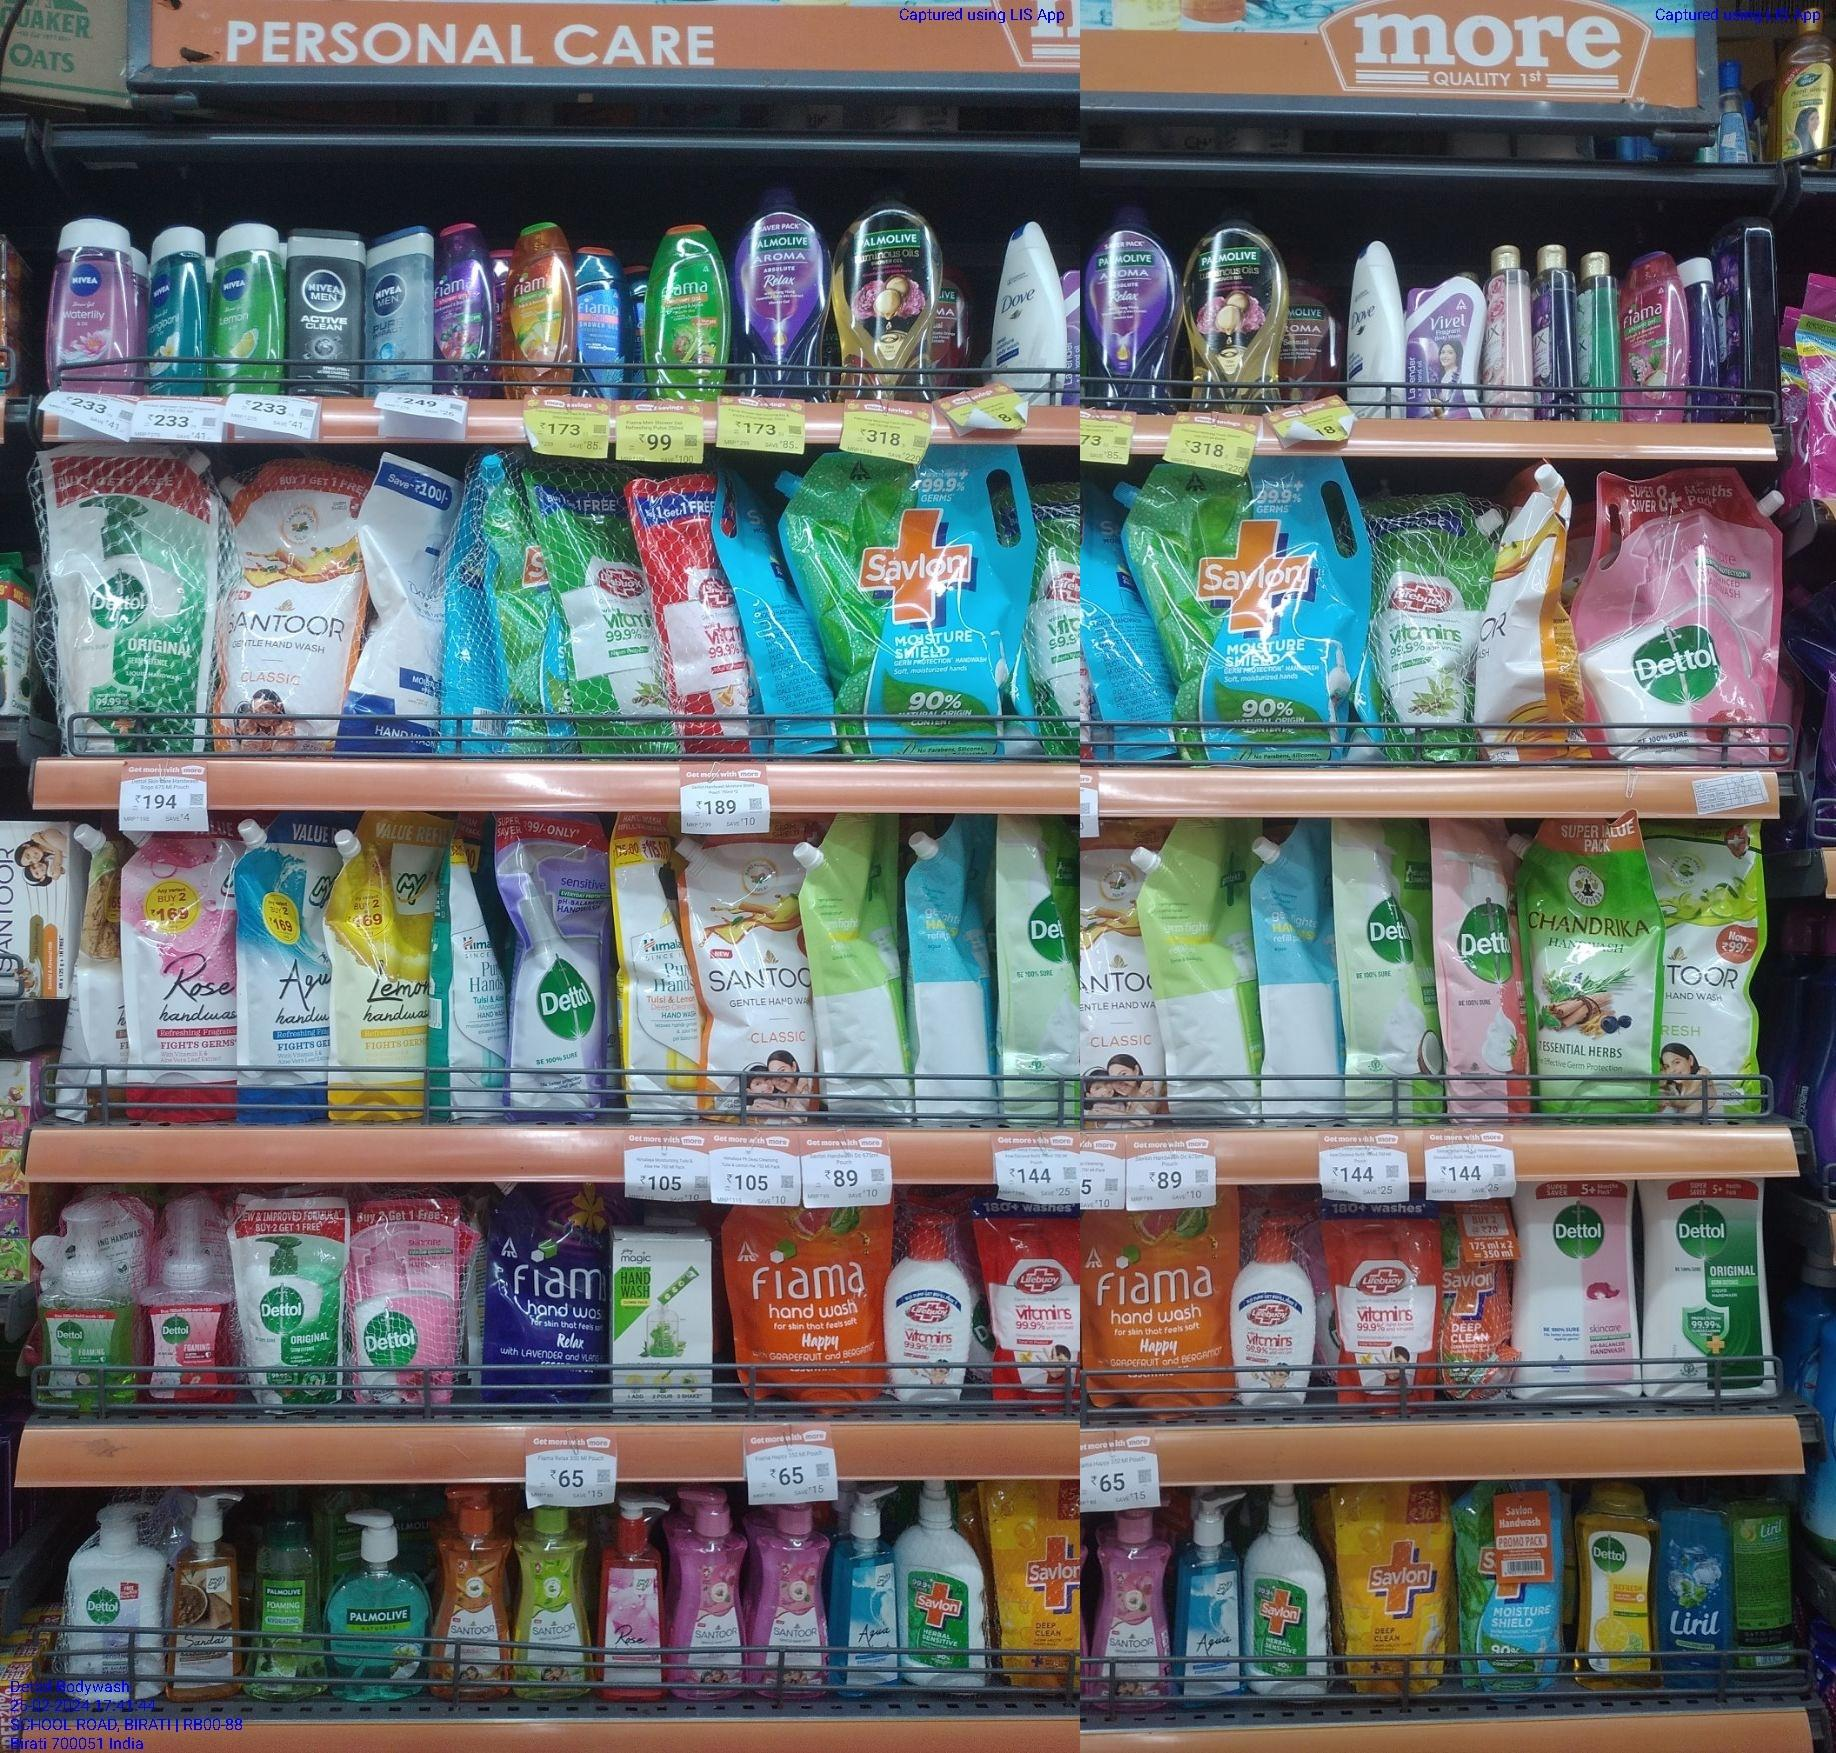Dettol_Bodywash_Refresh: (1580, 1486, 1662, 1697)
Fiama_Shower_Gel_Lemongrass_and_Jojoba_250ML: (649, 223, 729, 397)
Fiama_Shower_Gel_Patchouli_and_Macadamia_250ML: (1623, 251, 1687, 420)
Fiama_Shower_Gel_Peach_and_Avocado_250ML: (500, 221, 572, 395)
Liril_Cooling_Mint_Body_Wash_250ML: (1664, 1484, 1734, 1697)
Nivea_Shower_Gel_Frangipani_and_Oil_250ML: (151, 226, 210, 394)
Nivea_Shower_Gel_Lemon_and_Oil_250ML: (216, 221, 284, 392)
Nivea_Shower_Gel_Waterlily_and_Oil_250ML: (51, 218, 134, 389)
